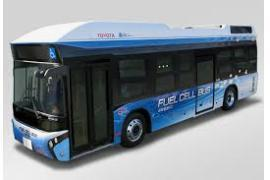bus: (10, 20, 256, 164)
